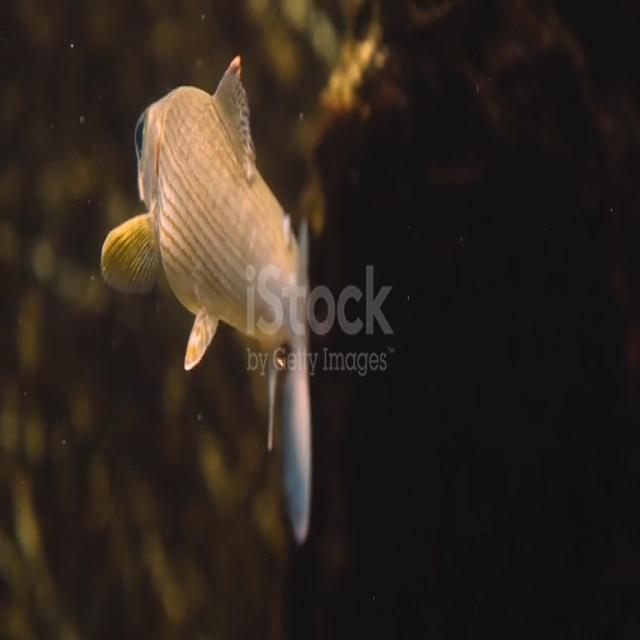fish: (97, 41, 316, 546)
